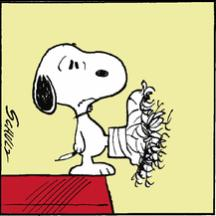snoopy: (31, 40, 176, 188)
